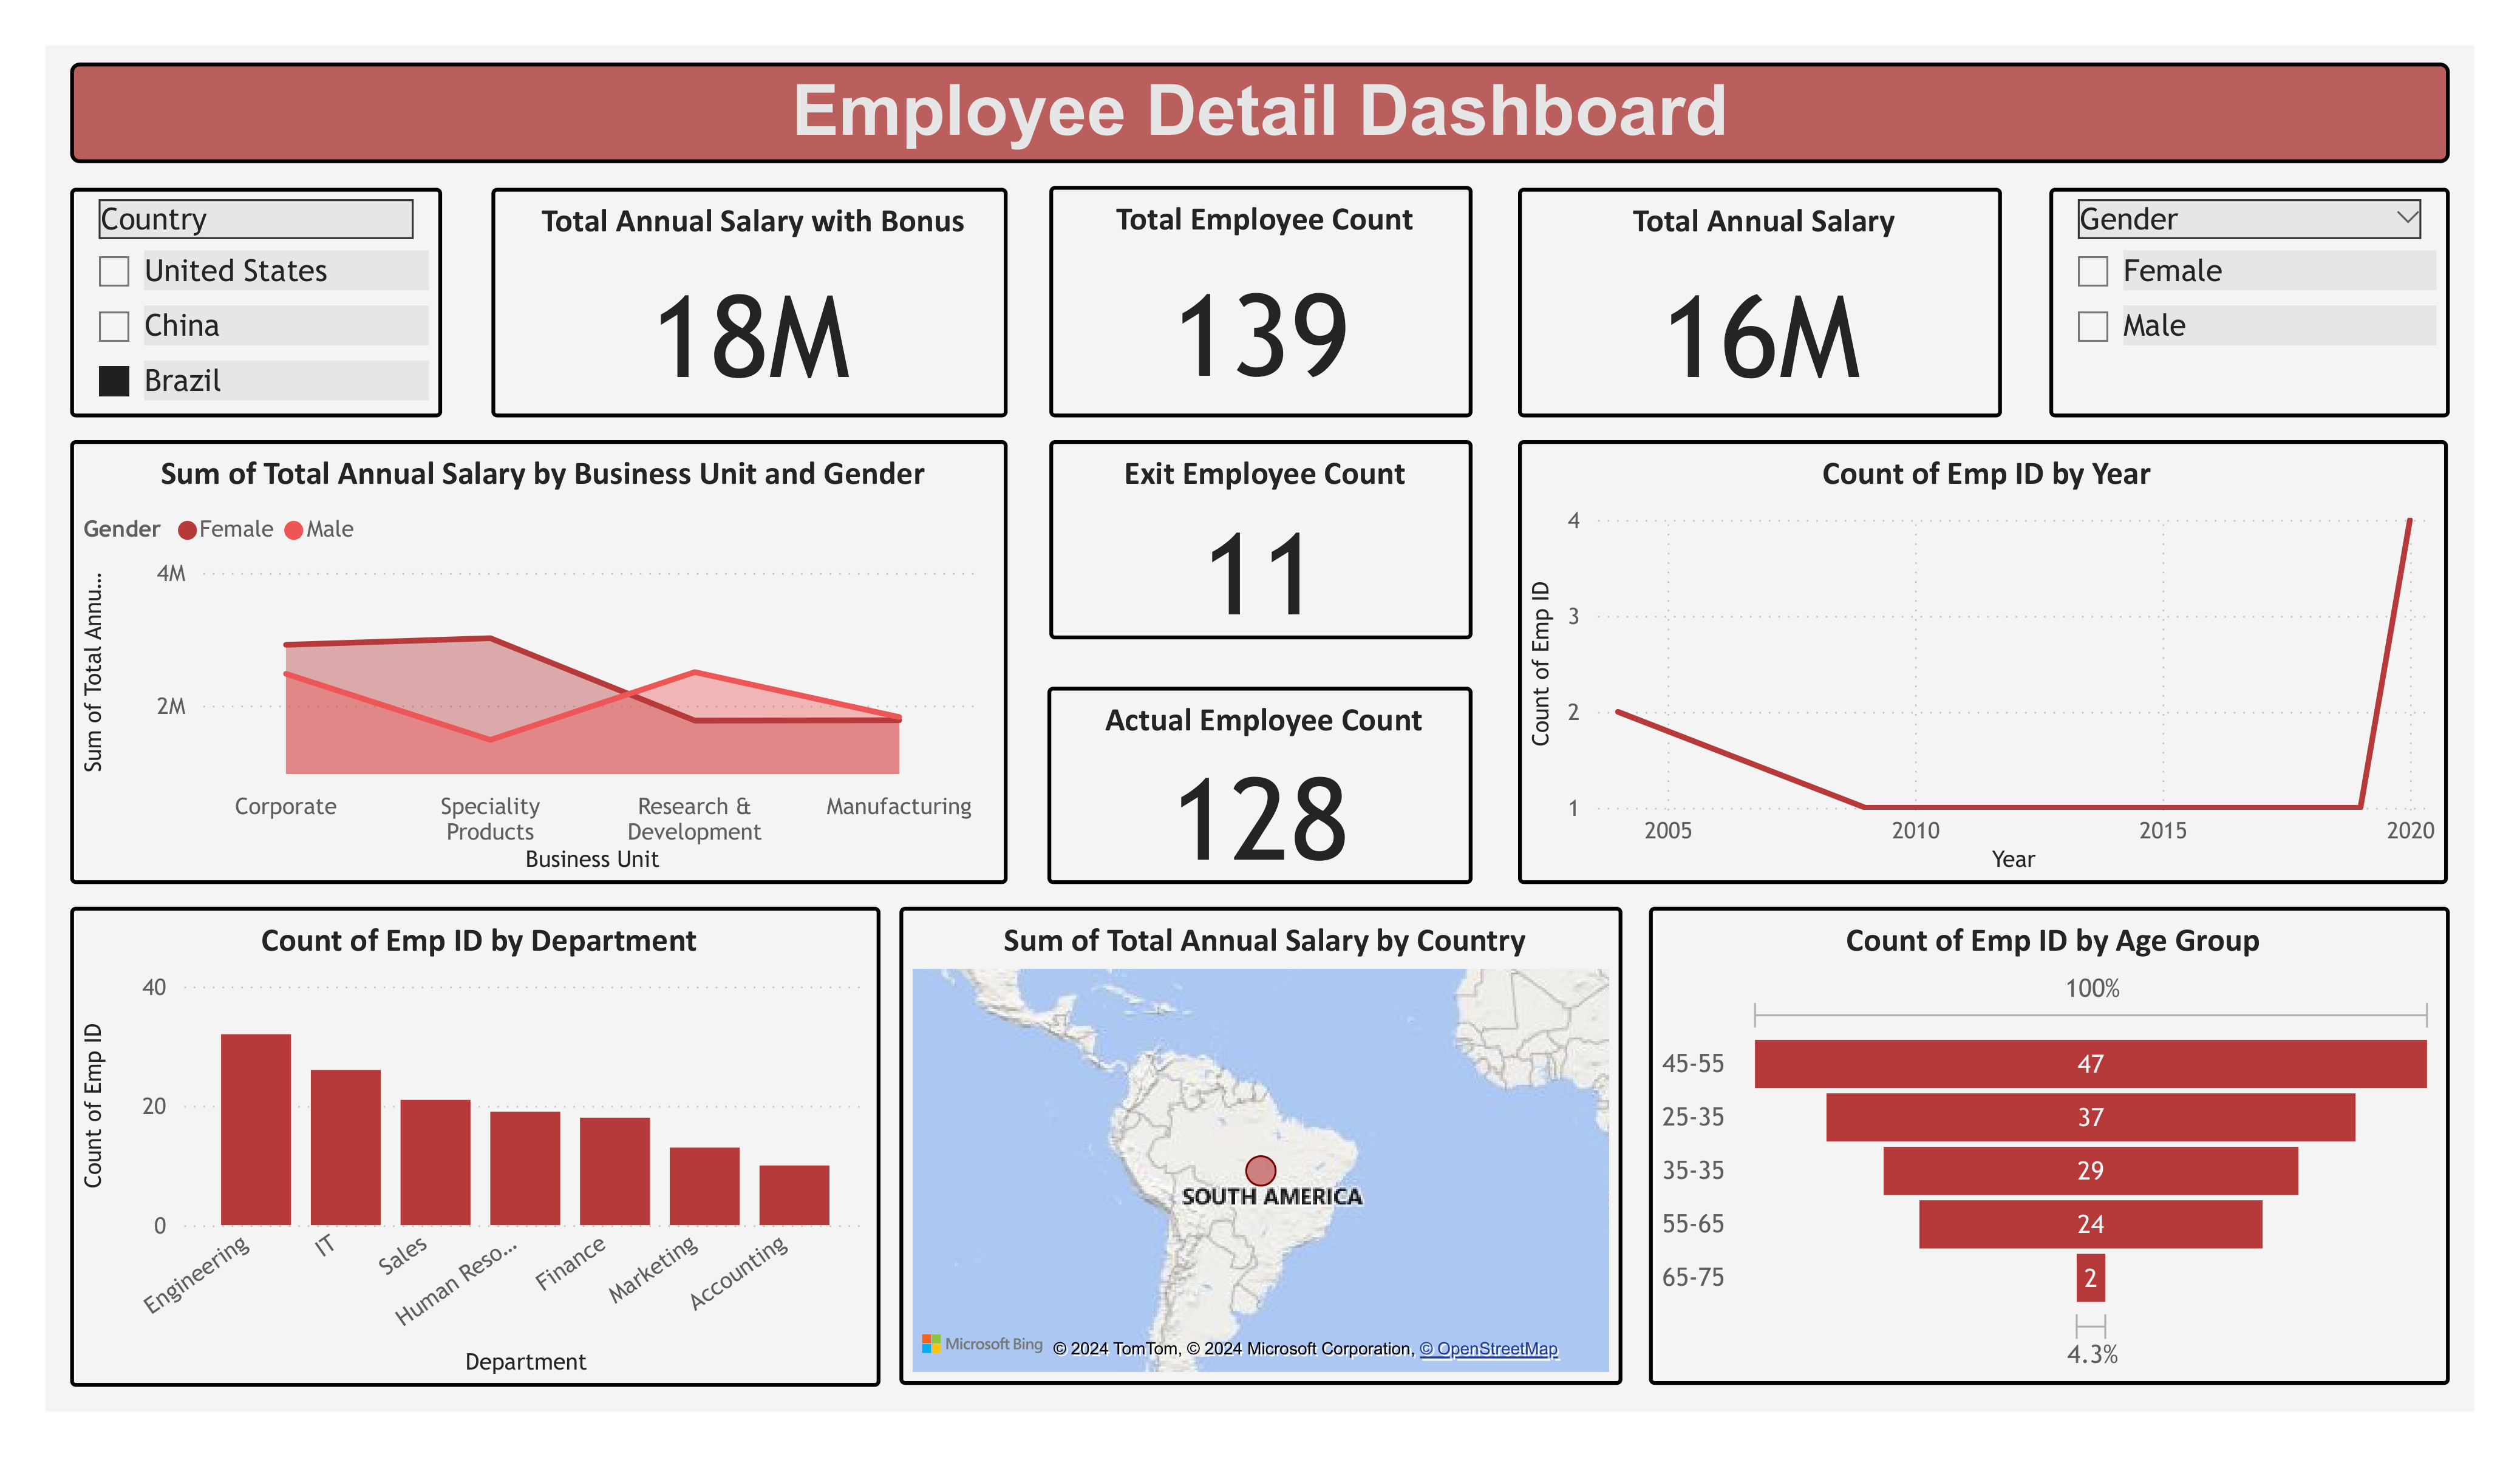

What the dashboard file says about the page in this screenshot:
{"tool":"powerbi","page":{"name":"Page 1","canvas":[1280,720],"ordinal":0},"visuals":[{"type":"textbox","box":[12.9,9.4,1254.1,52.9],"z":0},{"type":"card","title":"Total  Annual Salary with Bonus","fields":{"Values":["Sum(Sheet1.Total Annual Salary)"]},"box":[234.9,74.7,271.7,121],"z":1000},{"type":"card","title":"Total Employee Count","fields":{"Values":["CountNonNull(Sheet1.Emp ID.1)"]},"box":[529.2,73.6,223.1,122.2],"z":2000},{"type":"card","title":"Exit Employee Count","fields":{"Values":["CountNonNull(Sheet1.Exit Date)"]},"box":[529.4,208.2,222.4,104.7],"z":3000},{"type":"card","title":"Actual Employee Count","fields":{"Values":["Sum(Sheet1.Actual Exit)"]},"box":[528,325,224,117],"z":4000},{"type":"card","title":"Total Annual Salary","fields":{"Values":["Sum(Sheet1.Annual Salary)"]},"box":[776,74.7,255.1,121],"z":5000},{"type":"lineChart","fields":{"Y":["CountNonNull(Sheet1.Emp ID)"],"Category":["Sheet1.Exit Date.Variation.Date Hierarchy.Year"]},"box":[776.5,208.2,489.4,234.1],"z":6000},{"type":"columnChart","fields":{"Y":["CountNonNull(Sheet1.Emp ID)"],"Category":["Sheet1.Department"]},"box":[12.9,454.1,427.1,252.9],"z":7000},{"type":"map","fields":{"Category":["Sheet1.Country"],"Size":["Sum(Sheet1.Total Annual Salary)"]},"box":[450,453.6,381,252.4],"z":8000},{"type":"funnel","fields":{"Category":["Sheet1.Age Group"],"Y":["CountNonNull(Sheet1.Emp ID)"]},"box":[845.2,453.6,421.4,252.4],"z":9000},{"type":"areaChart","fields":{"Category":["Sheet1.Business Unit"],"Y":["Sum(Sheet1.Total Annual Salary)"],"Series":["Sheet1.Gender"]},"box":[12.9,208.2,494.1,234.1],"z":10000},{"type":"slicer","fields":{"Values":["Sheet1.Gender"]},"box":[1056,74.7,211.2,121],"z":11000},{"type":"slicer","fields":{"Values":["Sheet1.Country"]},"box":[12.9,75.3,196.5,121.2],"z":12000}]}

Visuals, with their boxes in screenshot pixels (x1, y1, x2, y2):
textbox: locate(70, 63, 2450, 164)
"Total  Annual Salary with Bonus" card: locate(491, 187, 1007, 417)
"Total Employee Count" card: locate(1050, 185, 1473, 417)
"Exit Employee Count" card: locate(1050, 441, 1472, 639)
"Actual Employee Count" card: locate(1047, 662, 1473, 884)
"Total Annual Salary" card: locate(1518, 187, 2002, 417)
lineChart - CountNonNull(Sheet1.Emp ID) x Sheet1.Exit Date.Variation.Date Hierarchy.Year: locate(1519, 441, 2448, 885)
columnChart - CountNonNull(Sheet1.Emp ID) x Sheet1.Department: locate(70, 907, 880, 1387)
map - Sheet1.Country x Sum(Sheet1.Total Annual Salary): locate(899, 906, 1623, 1385)
funnel - Sheet1.Age Group x CountNonNull(Sheet1.Emp ID): locate(1649, 906, 2449, 1385)
areaChart - Sheet1.Business Unit x Sum(Sheet1.Total Annual Salary): locate(70, 441, 1007, 885)
slicer - Sheet1.Gender: locate(2049, 187, 2450, 417)
slicer - Sheet1.Country: locate(70, 188, 443, 418)
